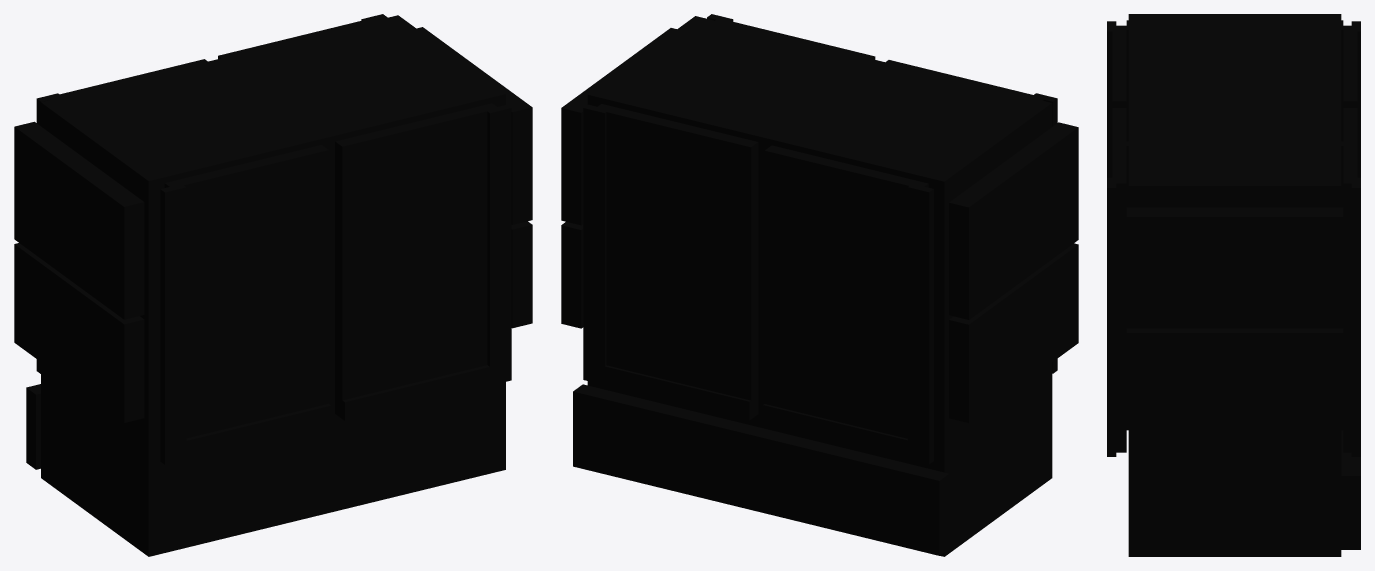
Rendered from xuantie_leggings.obj.
The picture shows the model from 3 angles, left to right: view 1: azimuth 30°, elevation 25°; view 2: azimuth 150°, elevation 25°; view 3: azimuth 270°, elevation 25°; orthographic projection.
Visible parts, largest first — view 1: geometry; view 2: geometry; view 3: geometry.
Part boxes in pixels (x1,y1,x2,y2): geometry: [14, 14, 532, 556]; geometry: [561, 14, 1078, 556]; geometry: [1107, 14, 1360, 556].
Bounding box in the file's own units: 0.5688 × 0.5 × 0.31.
